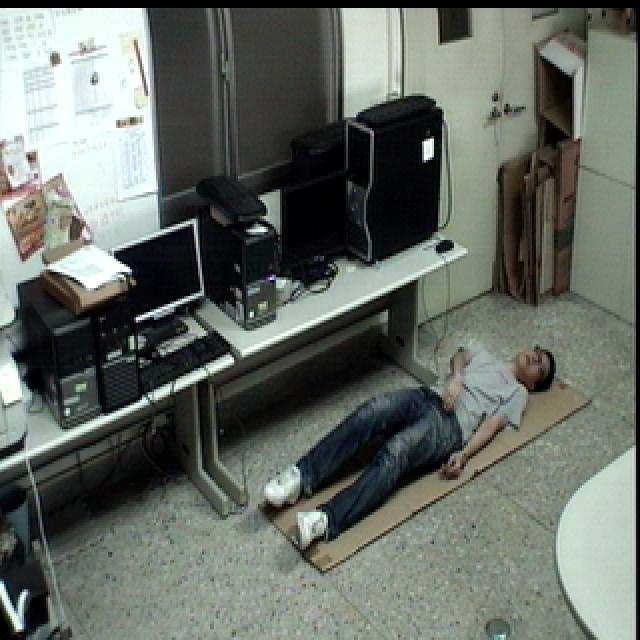lie: (256, 323, 570, 557)
